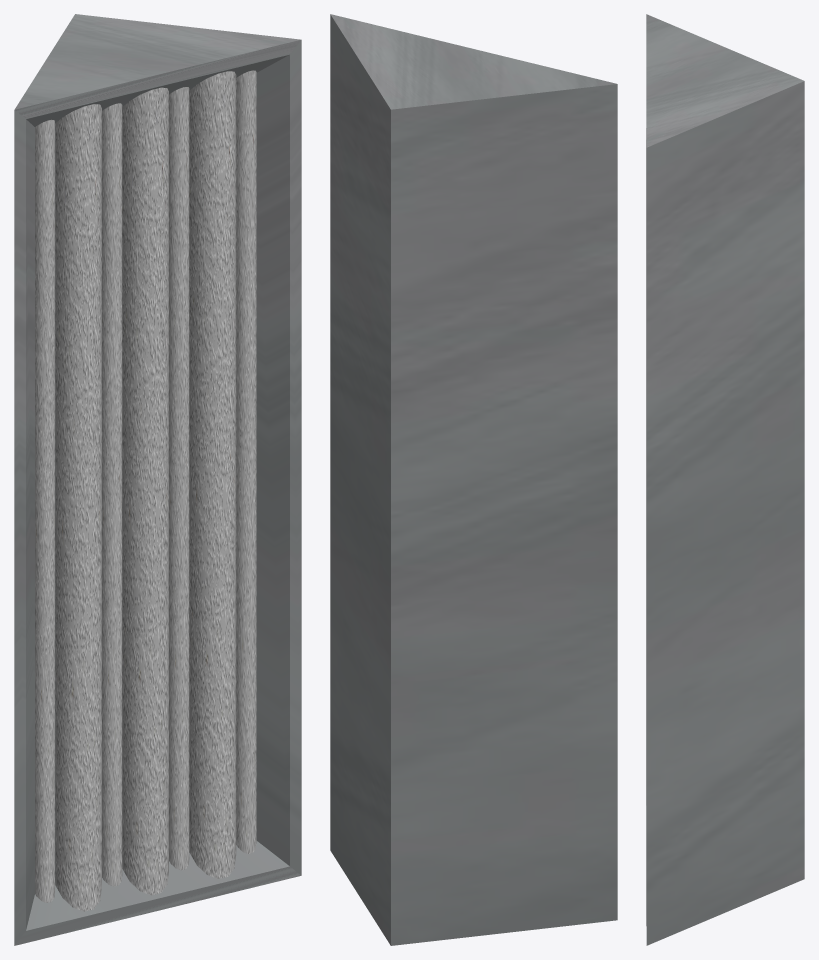
File: CornerAsset1.FBX
The picture shows the model from 3 angles, left to right: view 1: azimuth 30°, elevation 25°; view 2: azimuth 150°, elevation 25°; view 3: azimuth 270°, elevation 25°; orthographic projection. The views are drawn at different scales.
Parts seen in each view (by area): view 1: Cylinder001, Cone001; view 2: Cone001; view 3: Cone001.
Part boxes in pixels (bbox=[...]): Cylinder001: bbox=[35, 70, 256, 911]; Cone001: bbox=[14, 14, 301, 945]; Cone001: bbox=[330, 14, 617, 945]; Cone001: bbox=[646, 14, 804, 945].
Bounding box in the file's own units: 167 × 464 × 83.52.
Materials: 2 (2 with a texture image).
